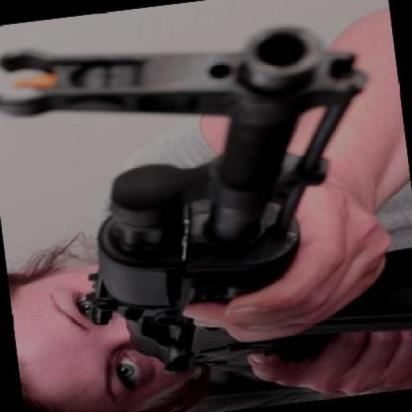Gun: (15, 13, 412, 409)
